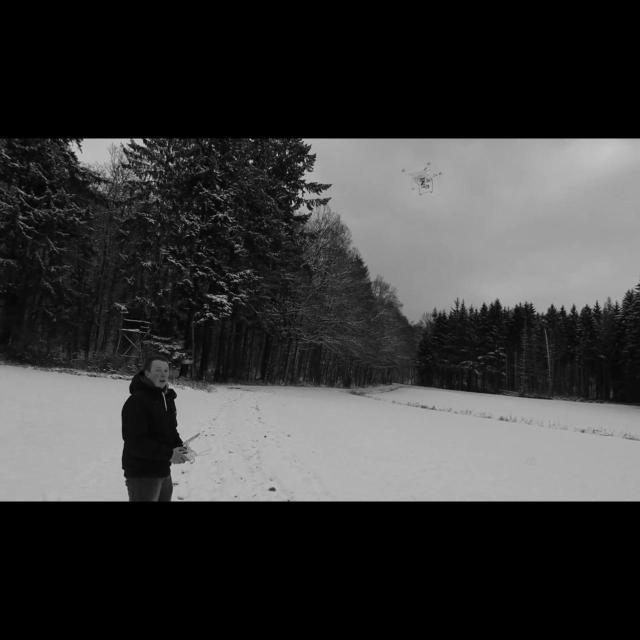Drons: (392, 157, 452, 205)
